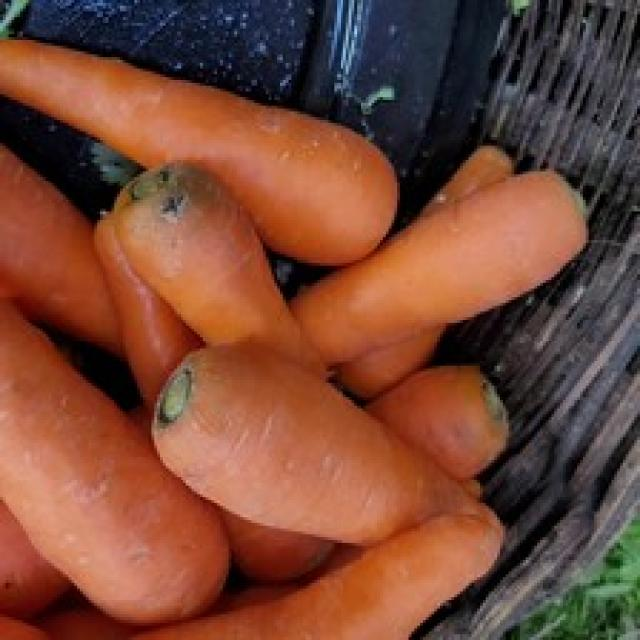Fresh_Carrot: (220, 150, 610, 434), (0, 266, 229, 640), (0, 86, 480, 242)
